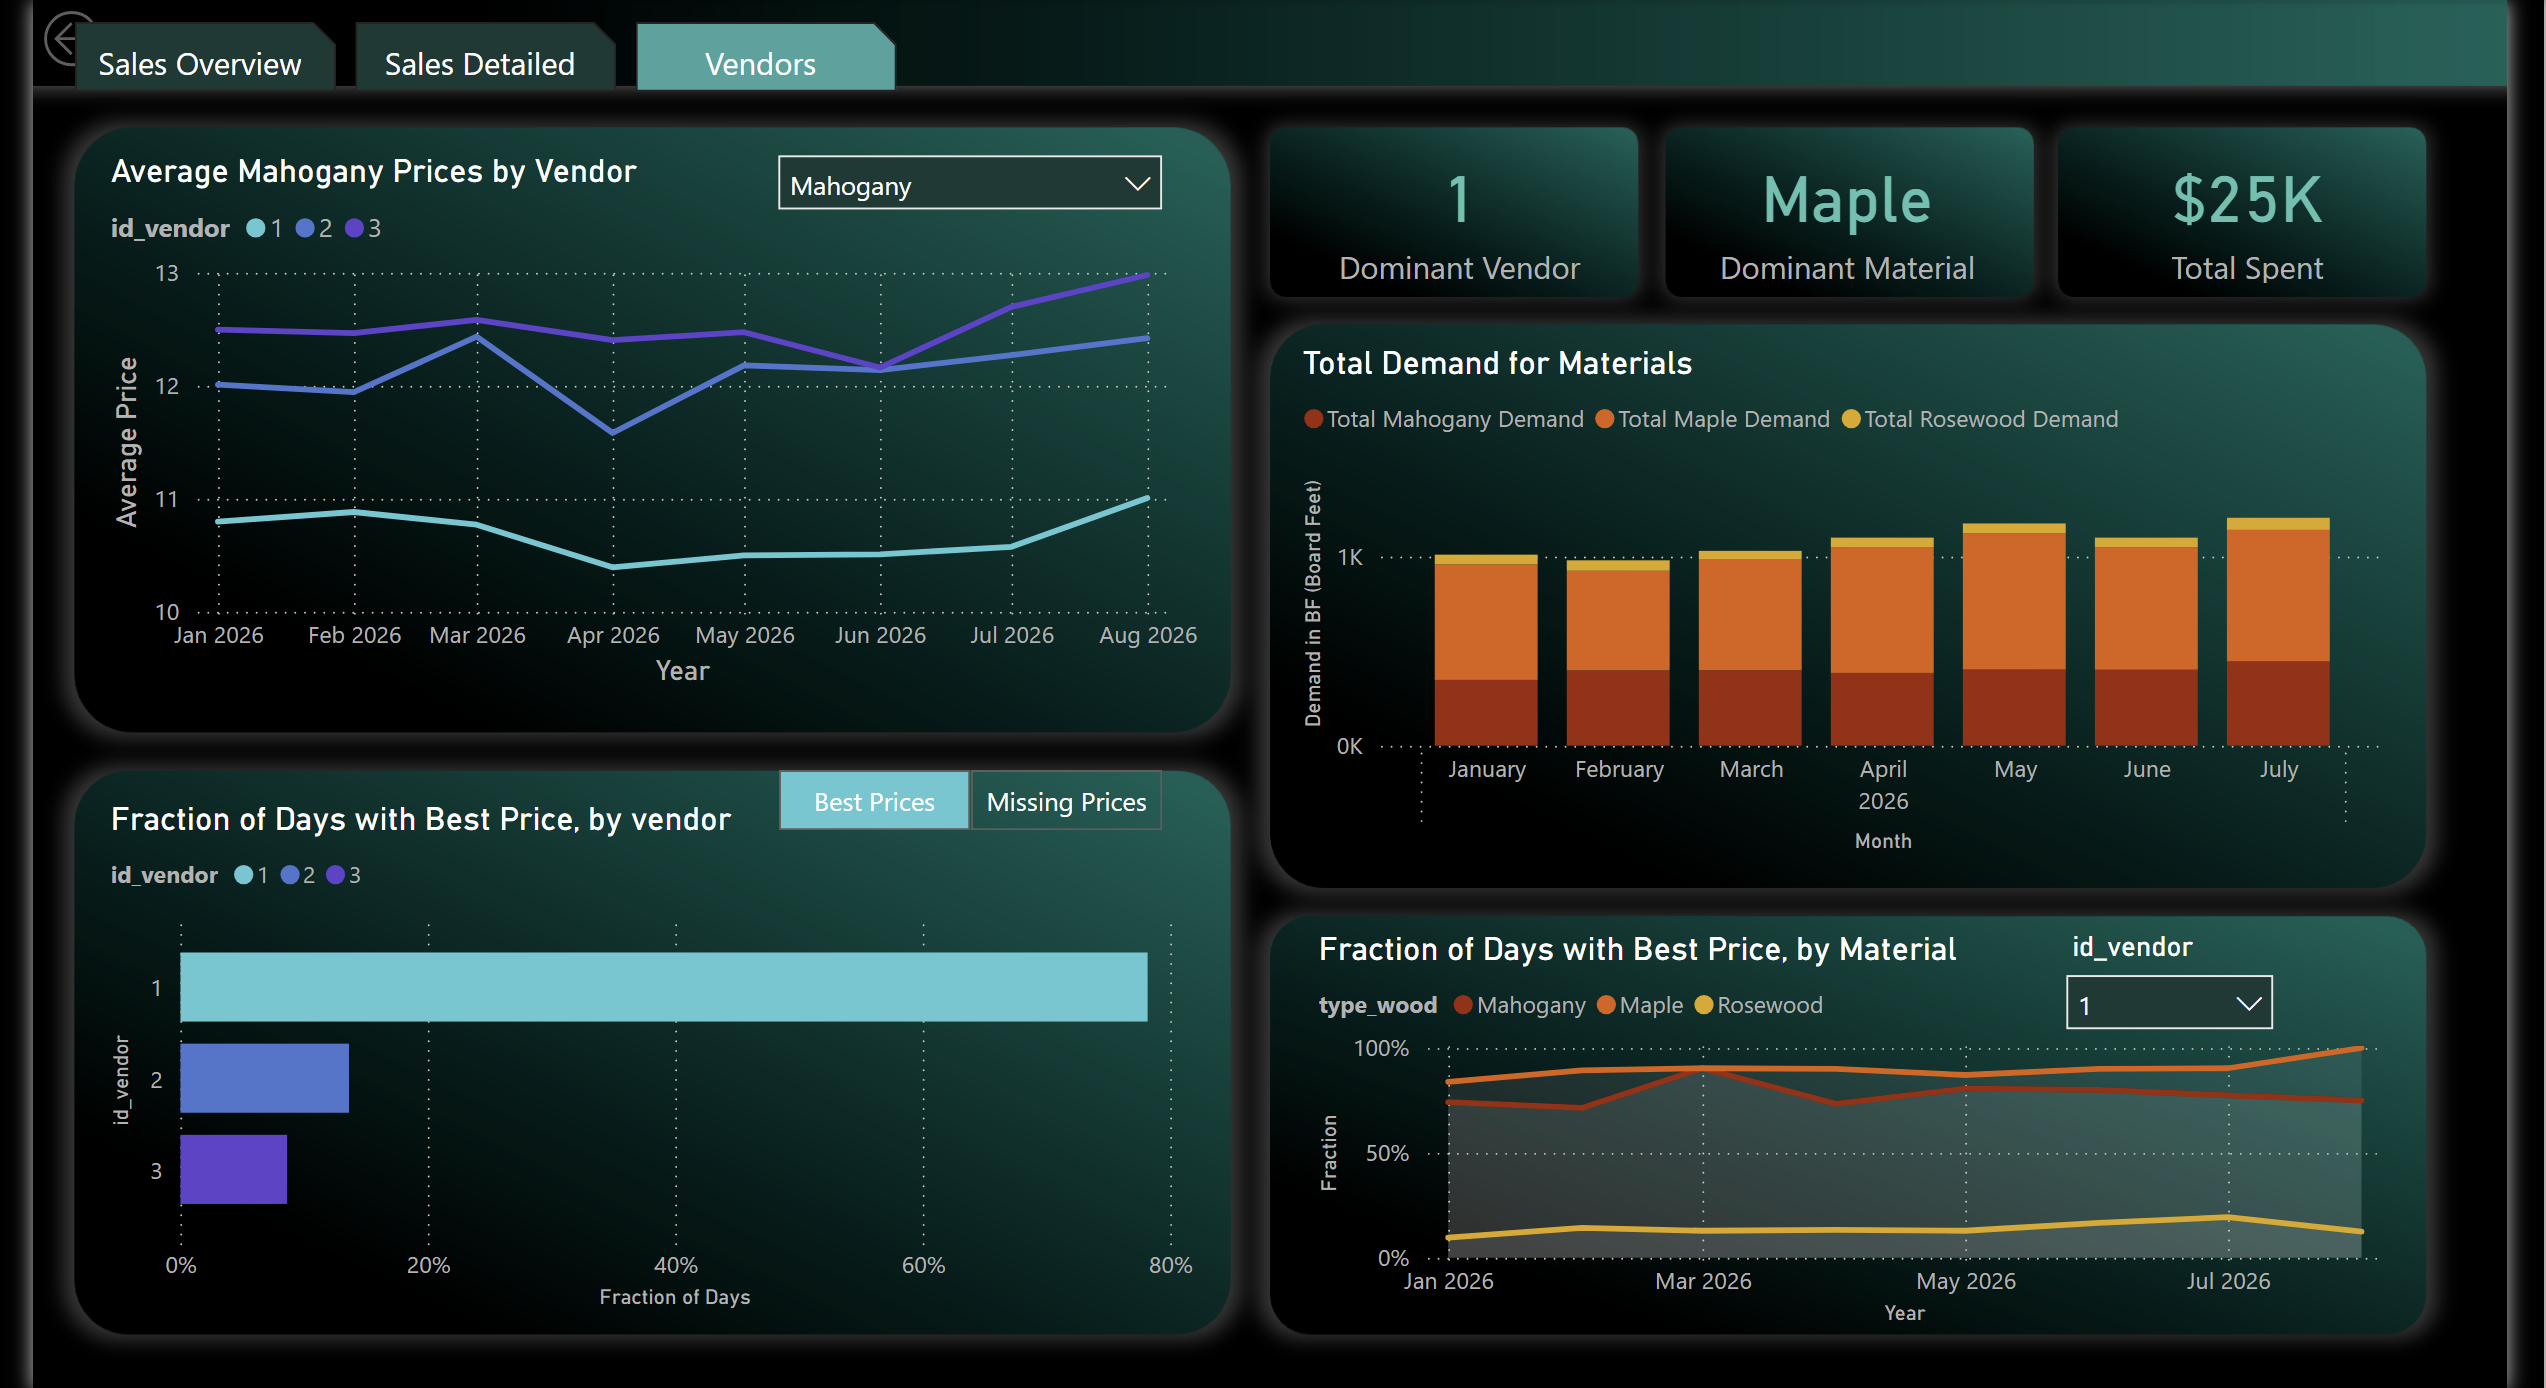

The page's visual inventory and layout, read from the dashboard file:
{"tool":"powerbi","page":{"name":"Vendors","canvas":[1280,720],"ordinal":2},"visuals":[{"type":"lineChart","fields":{"Category":["df_vendor_bids.date.Variation.Date Hierarchy.Year","df_vendor_bids.date.Variation.Date Hierarchy.Month"],"Series":["df_vendor_bids.id_vendor"],"Y":["df_vendor_bids.Average Price"]},"box":[35.6,78.9,572.2,281.1],"z":0},{"type":"barChart","title":"Fraction of Days with Best Price, by vendor","fields":{"Category":["df_vendor_bids.id_vendor"],"Series":["df_vendor_bids.id_vendor"],"Y":["df_vendor_bids.Fraction Best Price"]},"box":[35.6,413.4,570,267.8],"z":0,"group":"g1"},{"type":"slicer","fields":{"Values":["df_vendor_bids.type_wood"]},"box":[375.7,70,218.6,64.3],"z":1000},{"type":"actionButton","box":[485.6,397.8,98.9,31.1],"z":1000,"group":"g1"},{"type":"columnChart","title":"Total Demand for Materials","fields":{"Category":["df_orders.date.Variation.Date Hierarchy.Year","df_orders.date.Variation.Date Hierarchy.Month"],"Y":["df_orders.Total Mahogany Demand","df_orders.Total Maple Demand","df_orders.Total Rosewood Demand"]},"box":[652.2,177.8,570,267.8],"z":2000},{"type":"actionButton","box":[386.7,397.8,98.9,31.1],"z":2000,"group":"g1"},{"type":"group","id":"g1","title":"GroupBestPrices","box":[35.6,397.8,570,283.3],"z":4000},{"type":"card","fields":{"Values":["df_vendor_bids.Dominant Vendor"]},"box":[652.2,70,172.2,81.1],"z":5000},{"type":"actionButton","box":[0,0,100,40],"z":6000},{"type":"card","fields":{"Values":["df_orders.Most Demanded Material"]},"box":[852.2,70,172.2,81.1],"z":7000},{"type":"card","fields":{"Values":["df_vendor_bids.Total Spent"]},"box":[1058.9,70,172.2,81.1],"z":8000},{"type":"areaChart","title":"Fraction of Days with Best Price, by Material","fields":{"Category":["df_vendor_bids.date.Variation.Date Hierarchy.Year","df_vendor_bids.date.Variation.Date Hierarchy.Month"],"Series":["df_vendor_bids.type_wood"],"Y":["df_vendor_bids.Fraction Best Price"]},"box":[660,481.4,571.4,208.6],"z":9000},{"type":"slicer","fields":{"Values":["df_vendor_bids.id_vendor"]},"box":[1041.6,476.1,127.2,71.5],"z":10000},{"type":"pageNavigator","box":[22.1,11.6,425.7,36.8],"z":11000}]}

Visuals, with their boxes on the page's 1280x720 design canvas (x1, y1, x2, y2). These are canvas units, not pixel positions in the 2546x1388 screenshot, which may show the page scaled, cropped or inside an application window:
lineChart - df_vendor_bids.date.Variation.Date Hierarchy.Year x df_vendor_bids.date.Variation.Date Hierarchy.Month: 36/79/608/360
"Fraction of Days with Best Price, by vendor" barChart: 36/413/606/681
slicer - df_vendor_bids.type_wood: 376/70/594/134
actionButton: 486/398/584/429
"Total Demand for Materials" columnChart: 652/178/1222/446
actionButton: 387/398/486/429
"GroupBestPrices" group: 36/398/606/681
card - df_vendor_bids.Dominant Vendor: 652/70/824/151
actionButton: 0/0/100/40
card - df_orders.Most Demanded Material: 852/70/1024/151
card - df_vendor_bids.Total Spent: 1059/70/1231/151
"Fraction of Days with Best Price, by Material" areaChart: 660/481/1231/690
slicer - df_vendor_bids.id_vendor: 1042/476/1169/548
pageNavigator: 22/12/448/48
